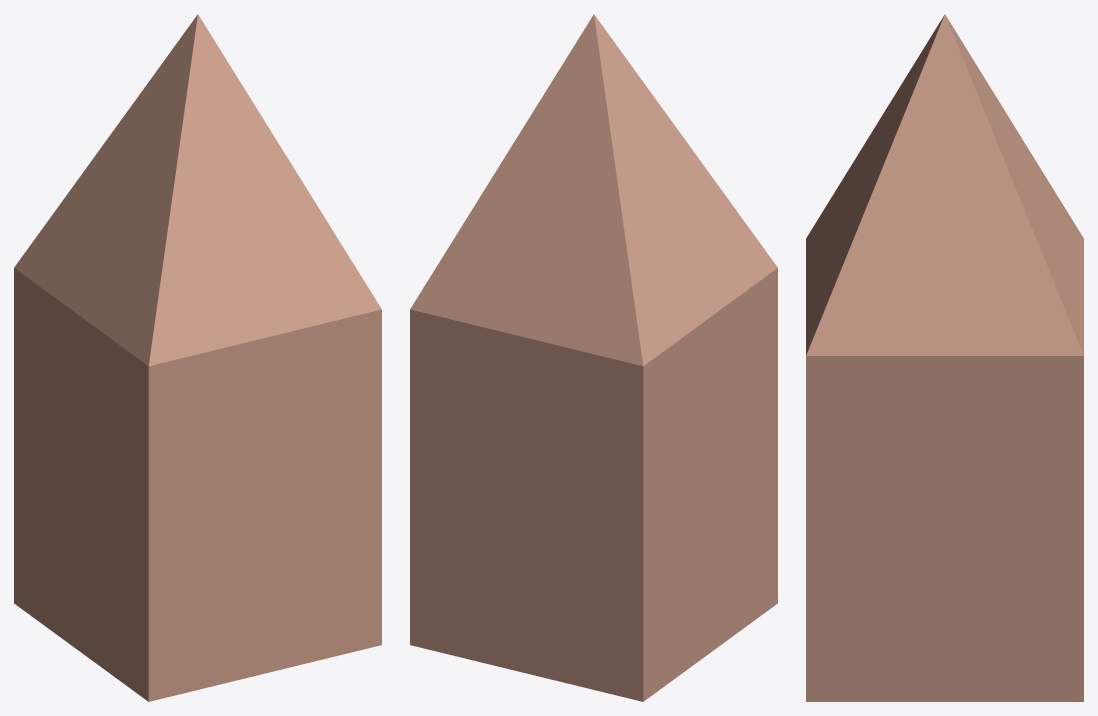
The model's file is kit_tower_d.glb.
The picture shows the model from 3 angles, left to right: view 1: azimuth 30°, elevation 25°; view 2: azimuth 150°, elevation 25°; view 3: azimuth 270°, elevation 25°; orthographic projection. The views are drawn at different scales.
Parts seen in each view (by area): view 1: kit_tower_d; view 2: kit_tower_d; view 3: kit_tower_d.
Part boxes in pixels (x1=…): kit_tower_d: x1=14, y1=14, x2=381, y2=701; kit_tower_d: x1=410, y1=14, x2=777, y2=701; kit_tower_d: x1=806, y1=14, x2=1083, y2=701.
Bounding box in the file's own units: 0.8 × 2 × 0.8.
